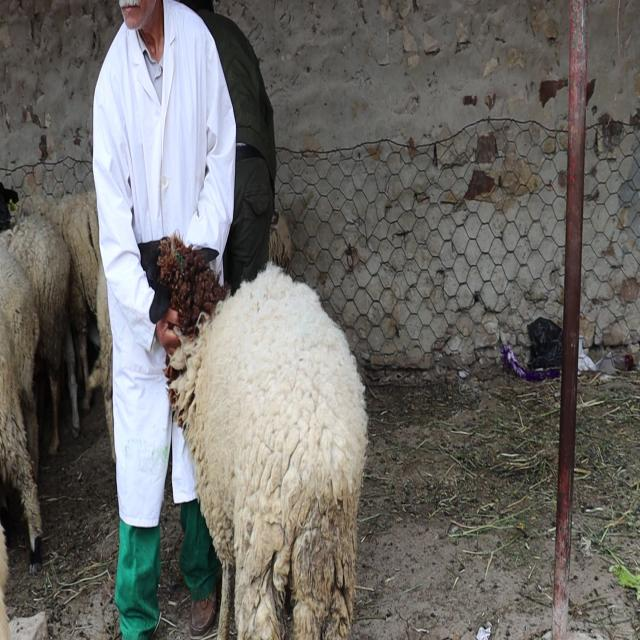Score_3: (139, 235, 367, 639)
